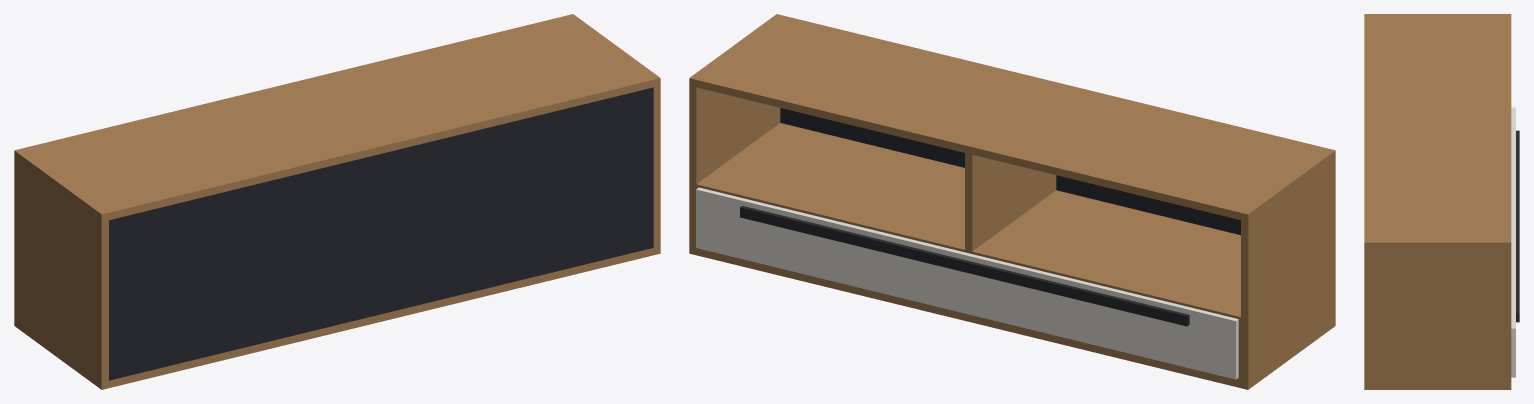
File: FN_Media_Wall.glb
The picture shows the model from 3 angles, left to right: view 1: azimuth 30°, elevation 25°; view 2: azimuth 150°, elevation 25°; view 3: azimuth 270°, elevation 25°; orthographic projection. The views are drawn at different scales.
Parts seen in each view (by area): view 1: FN_Media_Wall; view 2: FN_Media_Wall; view 3: FN_Media_Wall.
Boxes of the visible parts, x1,y1,x2,y2 form: FN_Media_Wall: (14, 14, 660, 389); FN_Media_Wall: (689, 14, 1335, 389); FN_Media_Wall: (1364, 14, 1519, 389).
Bounding box in the file's own units: 1.4 × 0.42 × 0.402.
1 material, 1 textured.
